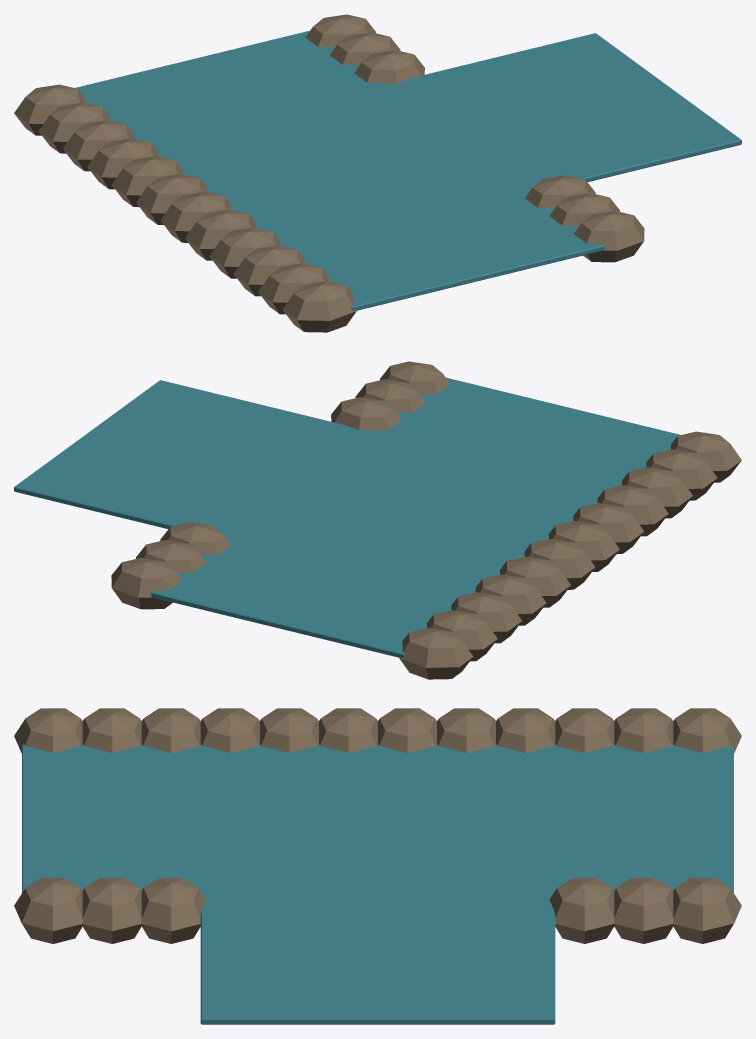
The model's file is landscape-river-tee.lod0.glb.
3 renders of one model, top to bottom at view 1: azimuth 30°, elevation 25°; view 2: azimuth 150°, elevation 25°; view 3: azimuth 270°, elevation 25°, orthographic. The views are drawn at different scales.
Visible parts, largest first — view 1: landscape-river-tee__body; view 2: landscape-river-tee__body; view 3: landscape-river-tee__body.
Part boxes in pixels (x1,y1,x2,y2): landscape-river-tee__body: (14, 14, 741, 332); landscape-river-tee__body: (14, 361, 741, 679); landscape-river-tee__body: (14, 708, 741, 1024).
Bounding box in the file's own units: 6.08 × 0.5 × 6.16.
